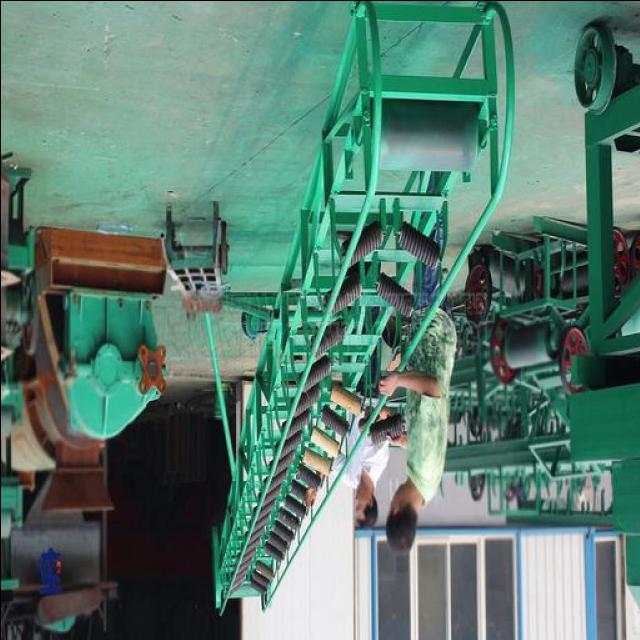conveyor: (225, 87, 499, 599)
